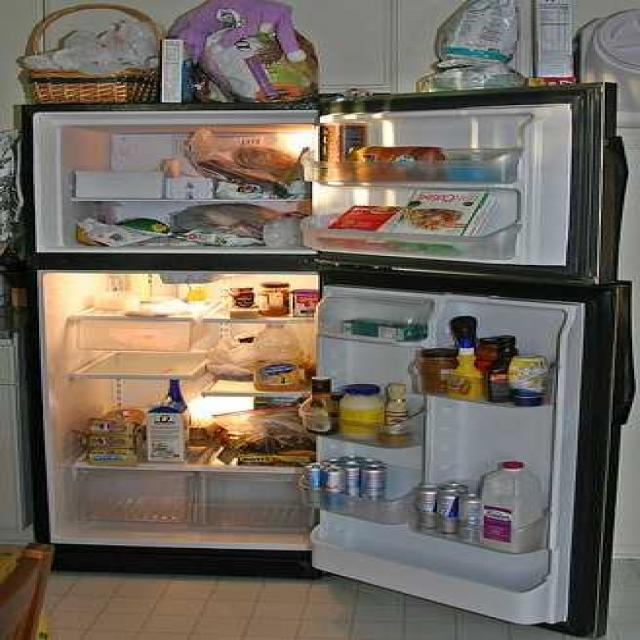refrigerator: (17, 103, 582, 572)
